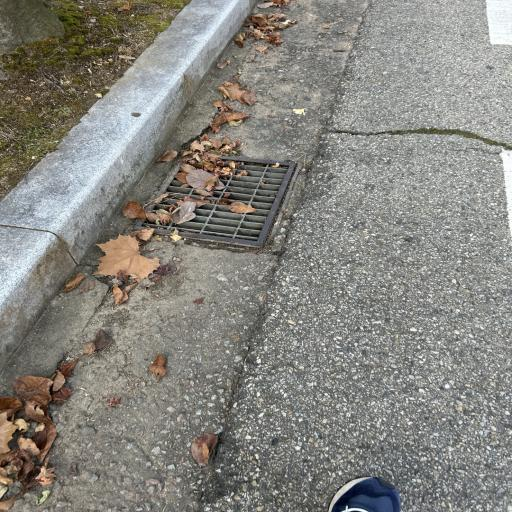debris: (175, 155, 239, 198), (145, 196, 211, 224), (230, 201, 256, 213), (221, 192, 230, 204), (238, 170, 248, 176)
drain: (133, 154, 297, 247)
